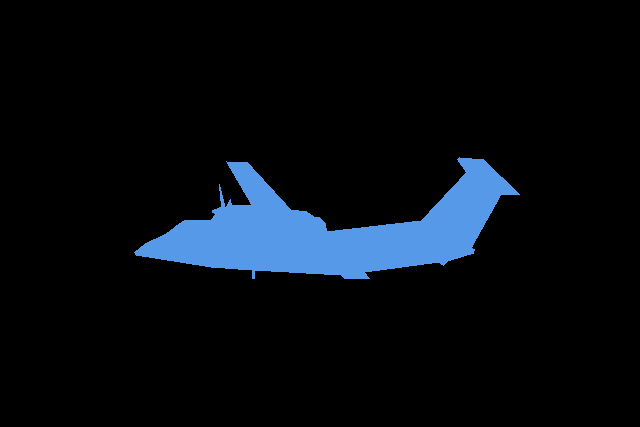Airplane: (134, 157, 519, 278)
